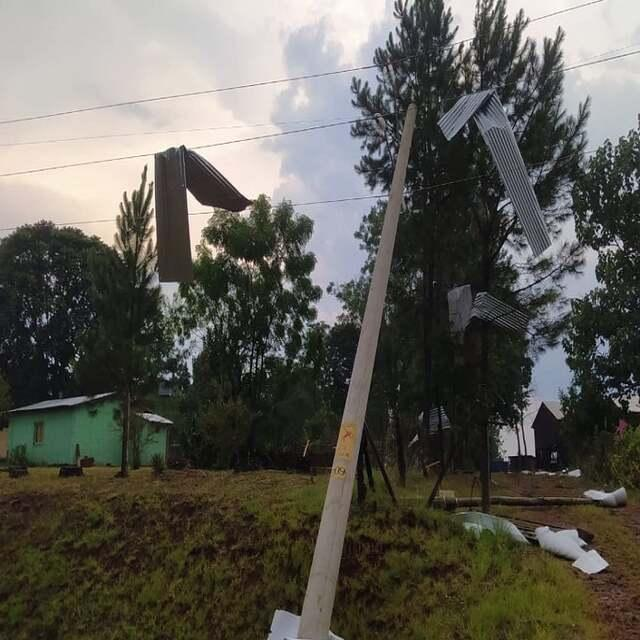Inclined Pole: (291, 93, 424, 640)
